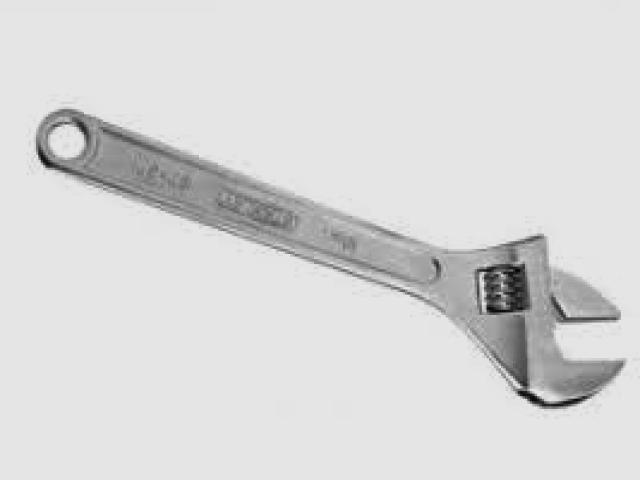Adjustable spanner: (36, 111, 622, 403)
